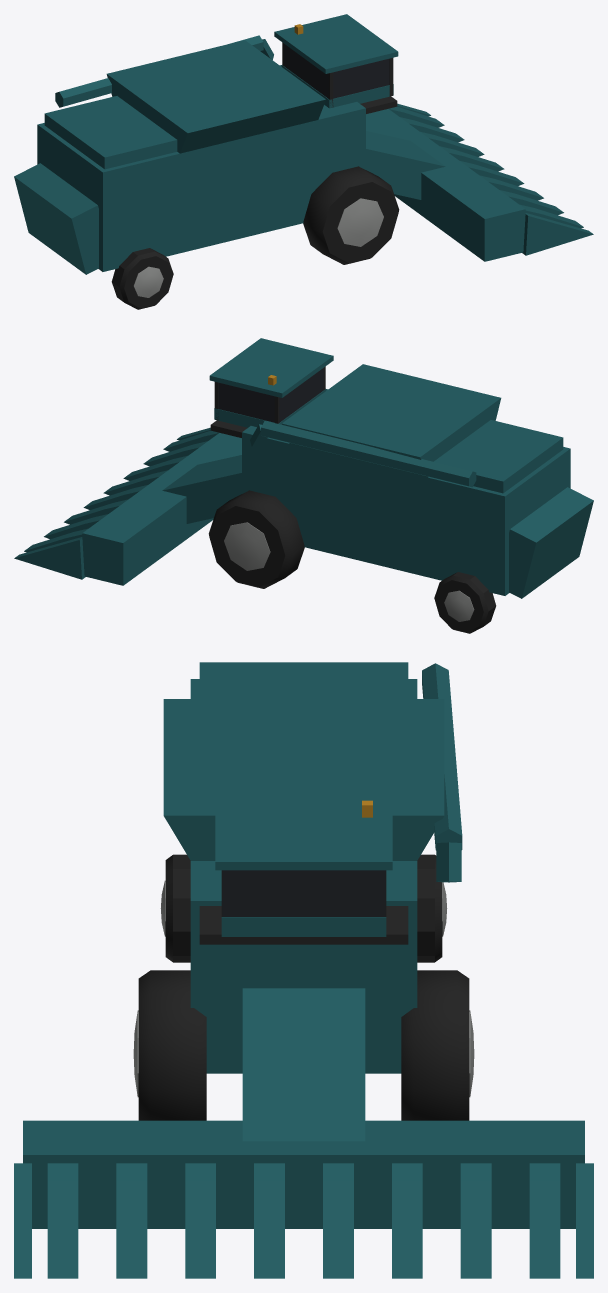
Rendered from SM_Prop_farm_combine_3_LOD1.glb.
The picture shows the model from 3 angles, top to bottom: view 1: azimuth 30°, elevation 25°; view 2: azimuth 150°, elevation 25°; view 3: azimuth 270°, elevation 25°; orthographic projection. The views are drawn at different scales.
Parts seen in each view (by area): view 1: SM_Prop_farm_combine_3_LOD1; view 2: SM_Prop_farm_combine_3_LOD1; view 3: SM_Prop_farm_combine_3_LOD1.
Part boxes in pixels (<box>): SM_Prop_farm_combine_3_LOD1: <box>14,14,593,309</box>; SM_Prop_farm_combine_3_LOD1: <box>14,338,593,633</box>; SM_Prop_farm_combine_3_LOD1: <box>14,662,593,1278</box>.
Bounding box in the file's own units: 10.3 × 4 × 6.4.
